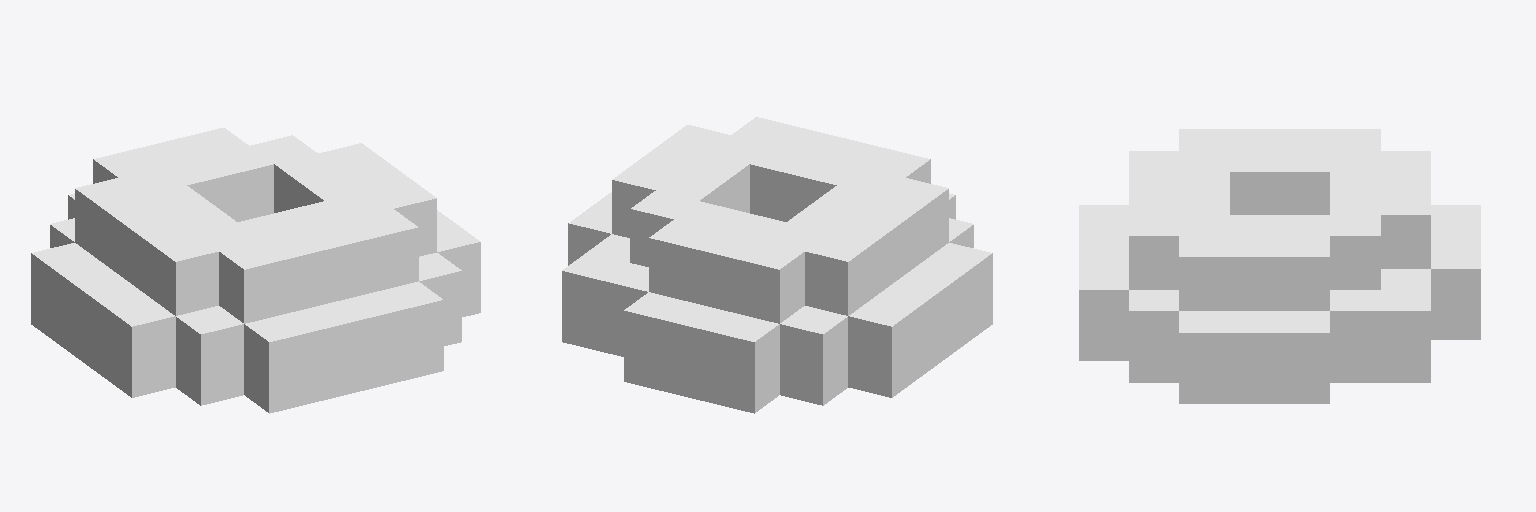
The model's file is StoneRocketLauncher-2-2.obj.
3 renders of one model, left to right at view 1: azimuth 30°, elevation 25°; view 2: azimuth 150°, elevation 25°; view 3: azimuth 270°, elevation 25°, orthographic.
Parts seen in each view (by area): view 1: 2; view 2: 2; view 3: 2.
Boxes of the visible parts, x1=… form: 2: x1=31, y1=128, x2=480, y2=413; 2: x1=562, y1=117, x2=992, y2=413; 2: x1=1079, y1=129, x2=1480, y2=403.
Bounding box in the file's own units: 12.8 × 4.4 × 12.8.